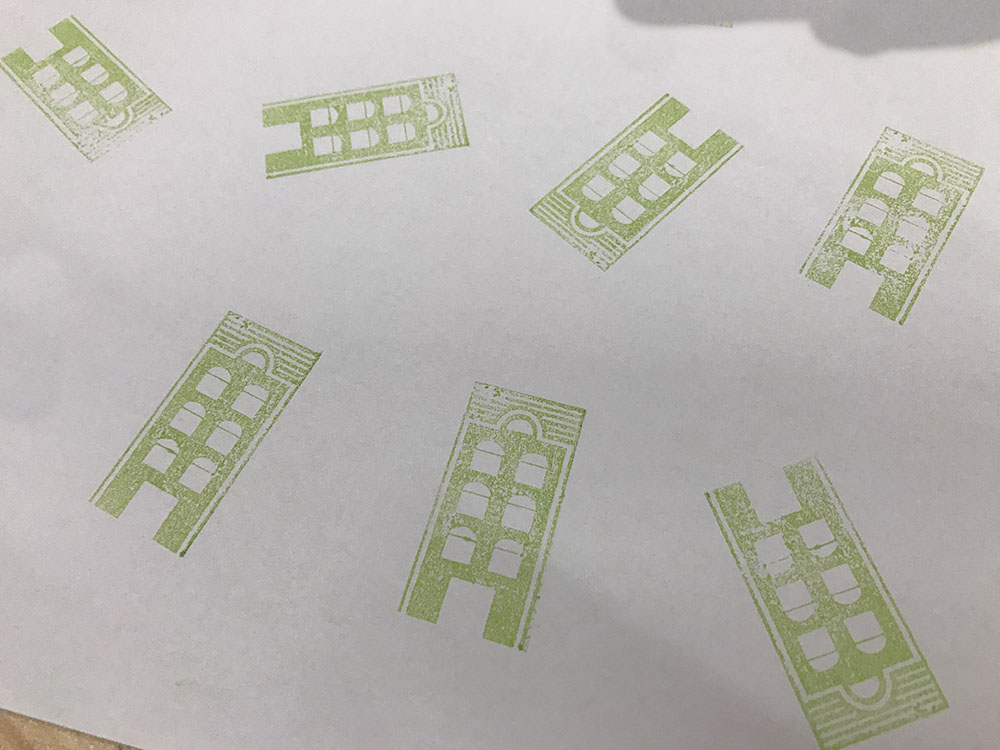build: (681, 441, 962, 746), (66, 291, 335, 587), (380, 366, 608, 686), (519, 87, 767, 275), (795, 107, 996, 333), (253, 65, 476, 191), (1, 12, 181, 163)
